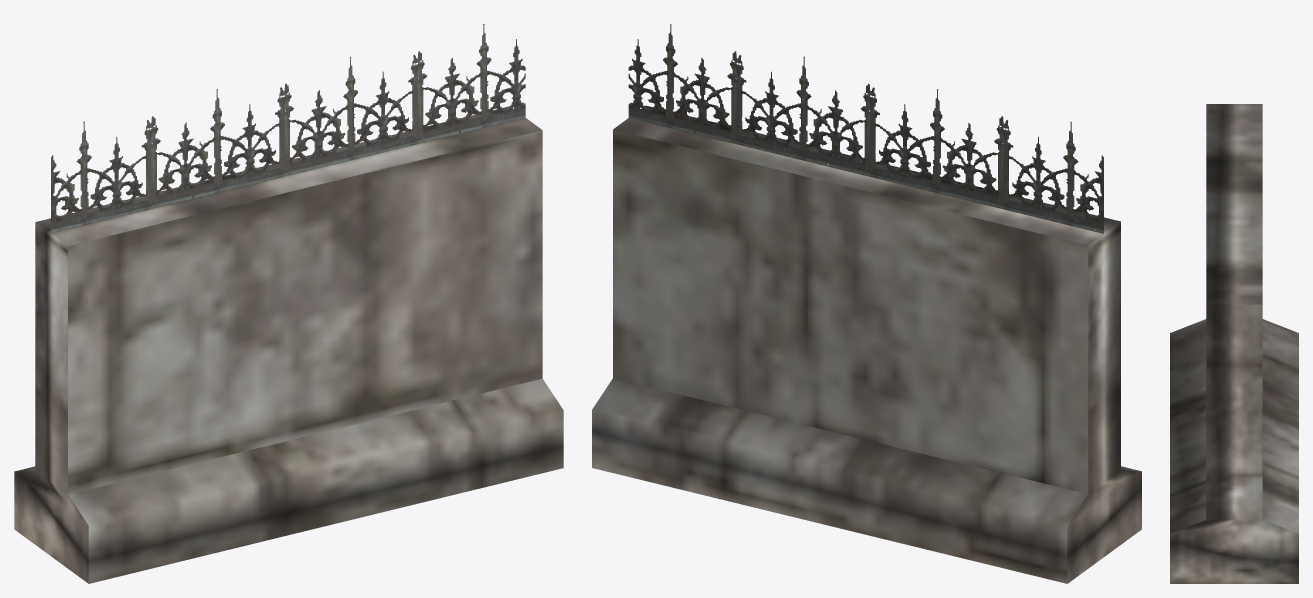
File: fence_mini.glb
The picture shows the model from 3 angles, left to right: view 1: azimuth 30°, elevation 25°; view 2: azimuth 150°, elevation 25°; view 3: azimuth 270°, elevation 25°; orthographic projection. The views are drawn at different scales.
Visible parts, largest first — view 1: fence_mini; view 2: fence_mini; view 3: fence_mini.
Part boxes in pixels (x1,y1,x2,y2): fence_mini: (14, 24, 563, 583); fence_mini: (592, 24, 1141, 583); fence_mini: (1170, 104, 1298, 583).
Size of the model in its own units: 2 by 1.72 by 0.5426.
2 materials, 2 textured.
